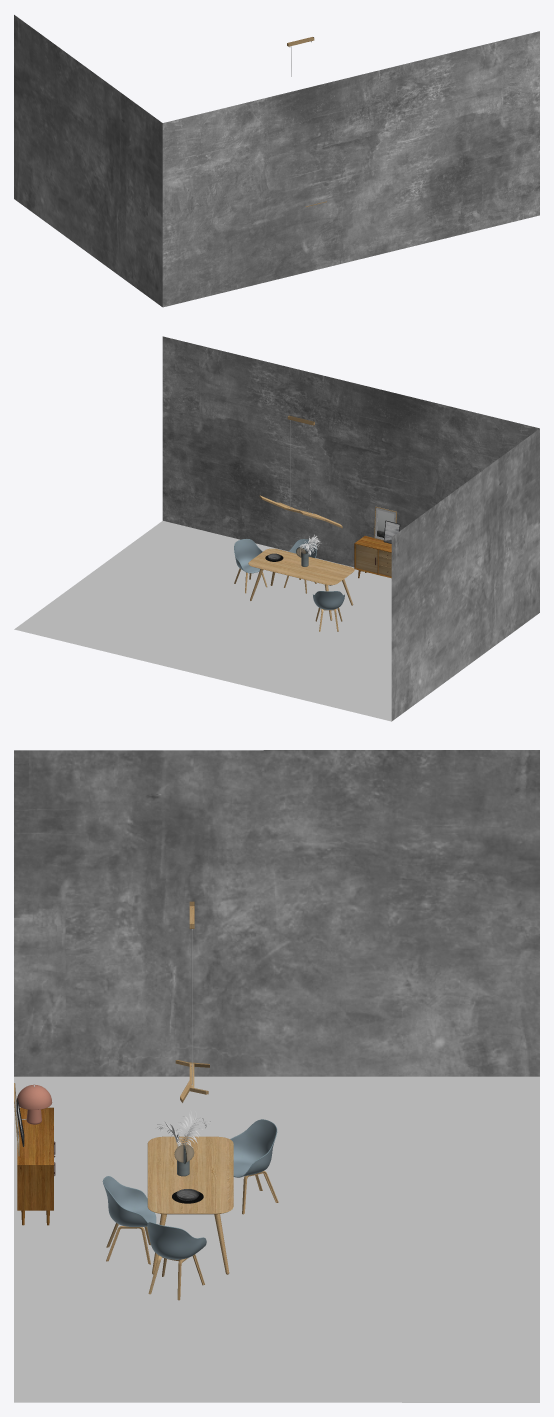
The model's file is Table.obj.
3 renders of one model, top to bottom at view 1: azimuth 30°, elevation 25°; view 2: azimuth 150°, elevation 25°; view 3: azimuth 270°, elevation 25°, orthographic. The views are drawn at different scales.
Parts seen in each view (by area): view 1: WALL; view 2: WALL, WALL.001, TABLE, SIDE_BOARD, AAC_CHAIR, AAC_CHAIR_02, LIGHT_PENDANT, FRAME_02; view 3: WALL, WALL.001, TABLE, SIDE_BOARD, AAC_CHAIR_02, AAC_CHAIR_01, AAC_CHAIR, VASE_CYL, LAMP, LIGHT_PENDANT.
Boxes of the visible parts, x1,y1,x2,y2 form: WALL: [14, 15, 539, 307]; WALL: [162, 336, 539, 721]; WALL.001: [14, 521, 391, 721]; TABLE: [248, 548, 354, 620]; SIDE_BOARD: [354, 536, 391, 578]; AAC_CHAIR: [234, 538, 267, 593]; AAC_CHAIR_02: [313, 591, 344, 631]; LIGHT_PENDANT: [259, 415, 342, 528]; FRAME_02: [374, 506, 396, 540]; WALL: [14, 750, 539, 1076]; WALL.001: [14, 1076, 539, 1402]; TABLE: [147, 1136, 233, 1274]; SIDE_BOARD: [17, 1107, 55, 1225]; AAC_CHAIR_02: [230, 1119, 278, 1214]; AAC_CHAIR_01: [102, 1176, 156, 1264]; AAC_CHAIR: [147, 1222, 206, 1300]; VASE_CYL: [157, 1110, 210, 1176]; LAMP: [17, 1084, 52, 1124]; LIGHT_PENDANT: [175, 901, 209, 1102].
Size of the model in its own units: 8.1 by 3.78 by 5.52.
